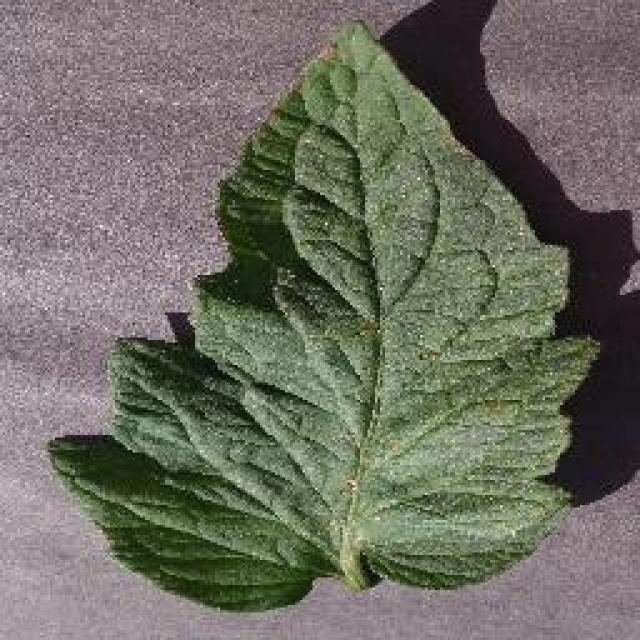Tomato___Target_Spot: (50, 22, 598, 605)
